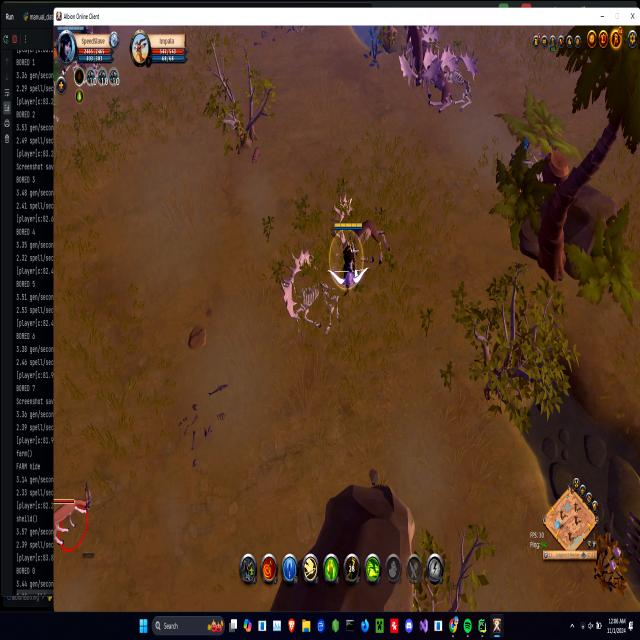hide: (590, 531, 631, 603)
mob: (338, 210, 391, 268), (429, 59, 453, 115)
ore: (54, 494, 90, 552), (399, 26, 431, 90)
red: (334, 219, 362, 286)
